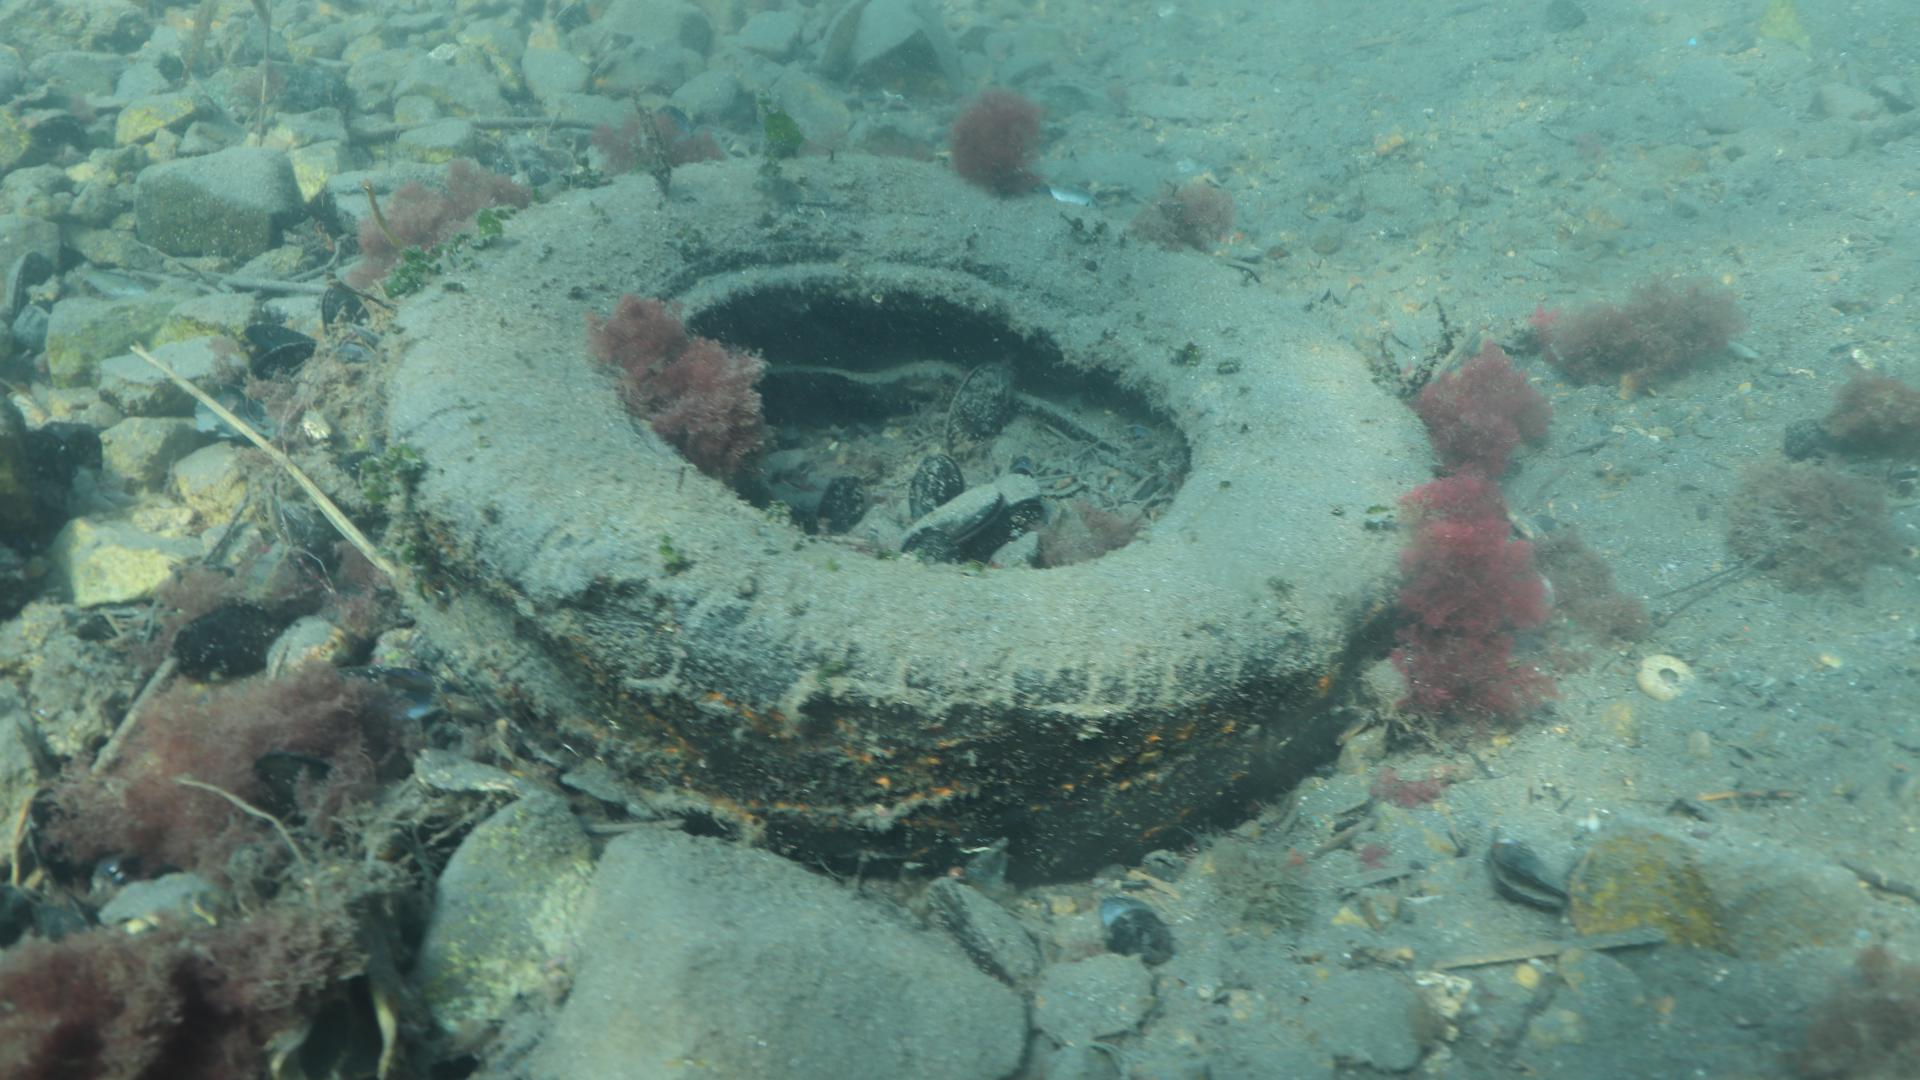tire: (382, 149, 1435, 872)
